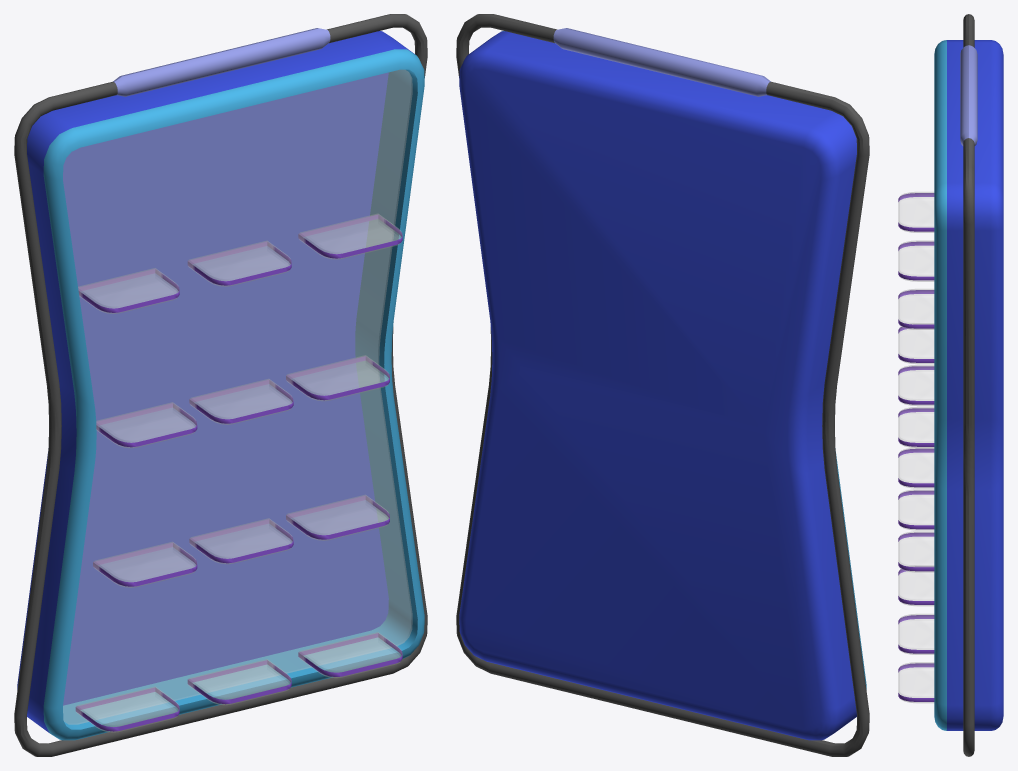
File: telefonTezgah2.fbx
3 renders of one model, left to right at view 1: azimuth 30°, elevation 25°; view 2: azimuth 150°, elevation 25°; view 3: azimuth 270°, elevation 25°, orthographic. The views are drawn at different scales.
Visible parts, largest first — view 1: tezgah, cam, Cube.010, Cube.005, Cube.009, Cube.012, Cube.011, Cube.013, Cube.014, Cube.015, Cube.007, Cube.016 (+2 smaller); view 2: tezgah; view 3: tezgah, Cube.005, Cube.007, Cube.009, Cube.013, Cube.014, Cube.016, Cube.008, Cube.010, Cube.012, Cube.015, Cube.011 (+1 smaller).
Boxes of the visible parts, box(x1,y1,x2,y2) form: tezgah: box(14, 14, 427, 756); cam: box(63, 69, 412, 724); Cube.010: box(298, 214, 402, 259); Cube.005: box(189, 379, 293, 424); Cube.009: box(187, 241, 291, 286); Cube.012: box(187, 659, 291, 705); Cube.011: box(75, 687, 179, 732); Cube.013: box(298, 632, 402, 678); Cube.014: box(189, 518, 293, 564); Cube.015: box(93, 542, 197, 587); Cube.007: box(286, 355, 389, 401); Cube.016: box(286, 495, 389, 540); tezgah: box(456, 14, 869, 756); tezgah: box(934, 14, 1003, 756); Cube.005: box(898, 364, 934, 406); Cube.007: box(898, 406, 934, 448); Cube.009: box(898, 240, 934, 281); Cube.013: box(898, 662, 934, 703); Cube.014: box(898, 489, 934, 530); Cube.016: box(898, 531, 934, 572); Cube.008: box(898, 191, 934, 232); Cube.010: box(898, 288, 934, 329); Cube.012: box(898, 613, 934, 654); Cube.015: box(898, 447, 934, 488); Cube.011: box(898, 565, 934, 606).
Bounding box in the file's own units: 719 × 1106 × 178.
